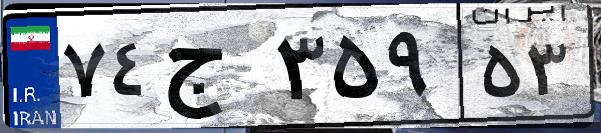3: (270, 28, 330, 110), (525, 38, 570, 115)
4: (110, 28, 158, 98)
5: (330, 28, 385, 110), (475, 38, 525, 113)
7: (57, 26, 110, 100)
9: (385, 28, 445, 110)
ج: (158, 20, 270, 120)
